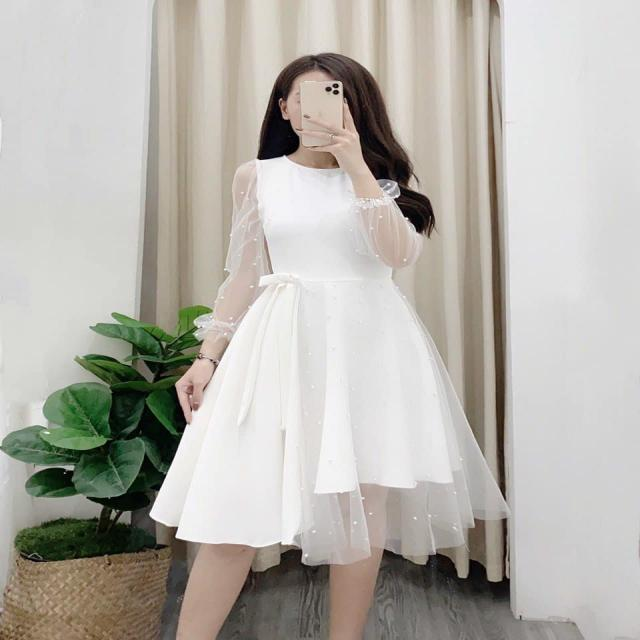clothes: (156, 152, 503, 564)
